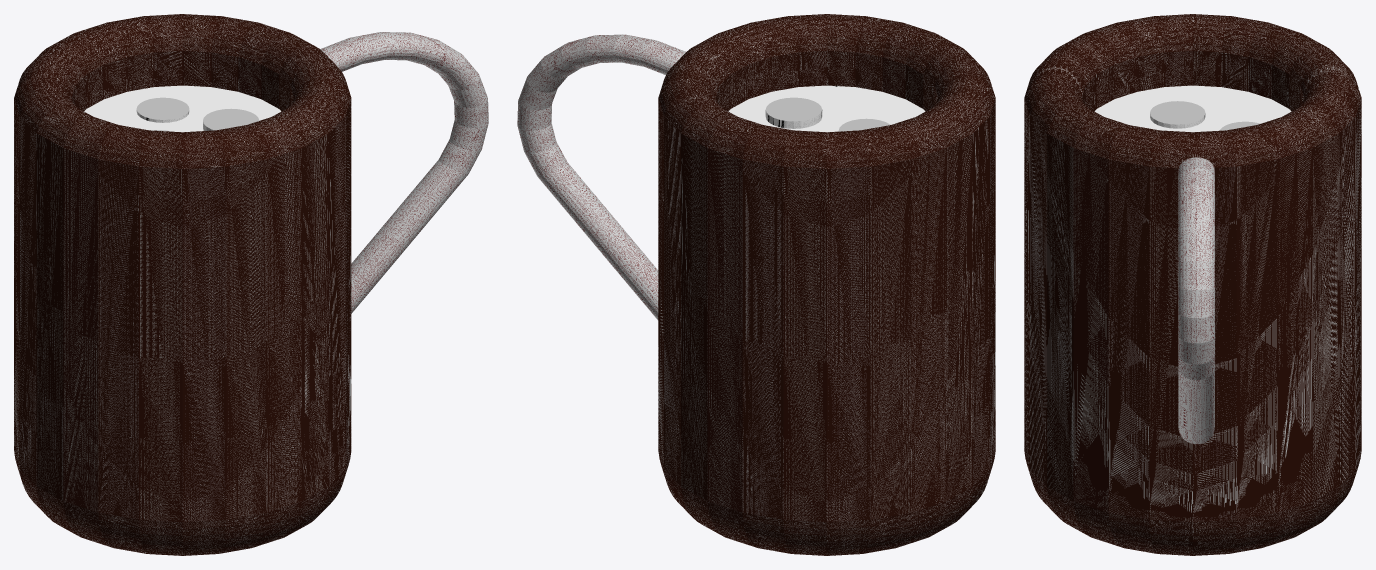
3 views of the same model, side by side, from view 1: azimuth 30°, elevation 25°; view 2: azimuth 150°, elevation 25°; view 3: azimuth 270°, elevation 25° (orthographic).
Parts seen in each view (by area): view 1: mesh1_mesh1-geometry, mesh2_mesh2-geometry; view 2: mesh1_mesh1-geometry, mesh2_mesh2-geometry; view 3: mesh1_mesh1-geometry, mesh2_mesh2-geometry.
Part boxes in pixels (x1,y1,x2,y2): mesh1_mesh1-geometry: [14, 14, 351, 555]; mesh2_mesh2-geometry: [320, 32, 488, 313]; mesh1_mesh1-geometry: [658, 14, 995, 555]; mesh2_mesh2-geometry: [517, 34, 685, 320]; mesh1_mesh1-geometry: [1024, 14, 1361, 555]; mesh2_mesh2-geometry: [1178, 157, 1214, 444].
Size of the model in its own units: 0.6693 by 0.6037 by 0.4331.
